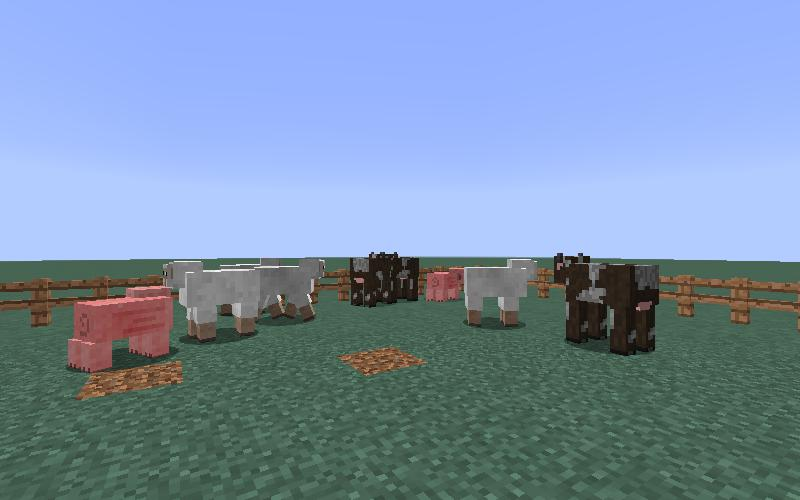cow: (551, 249, 662, 358), (349, 247, 396, 313)
pig: (61, 286, 176, 371), (425, 268, 464, 302)
sheep: (160, 259, 260, 345), (464, 252, 538, 327), (260, 256, 326, 322)
